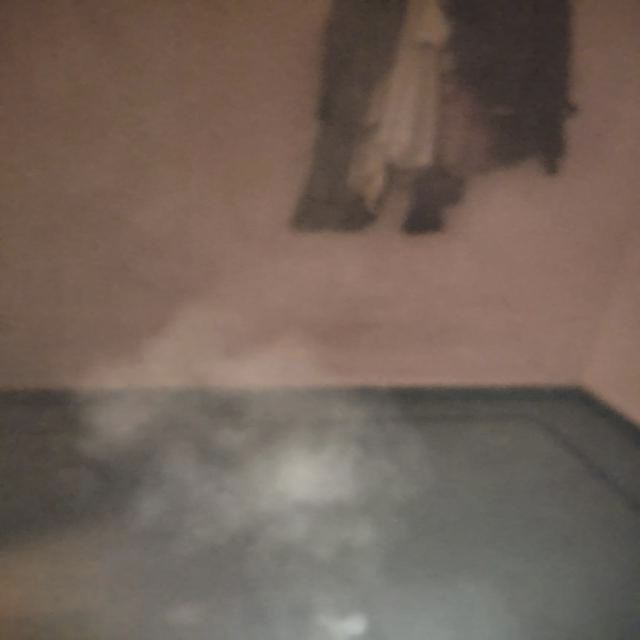smoke: (170, 324, 383, 529)
